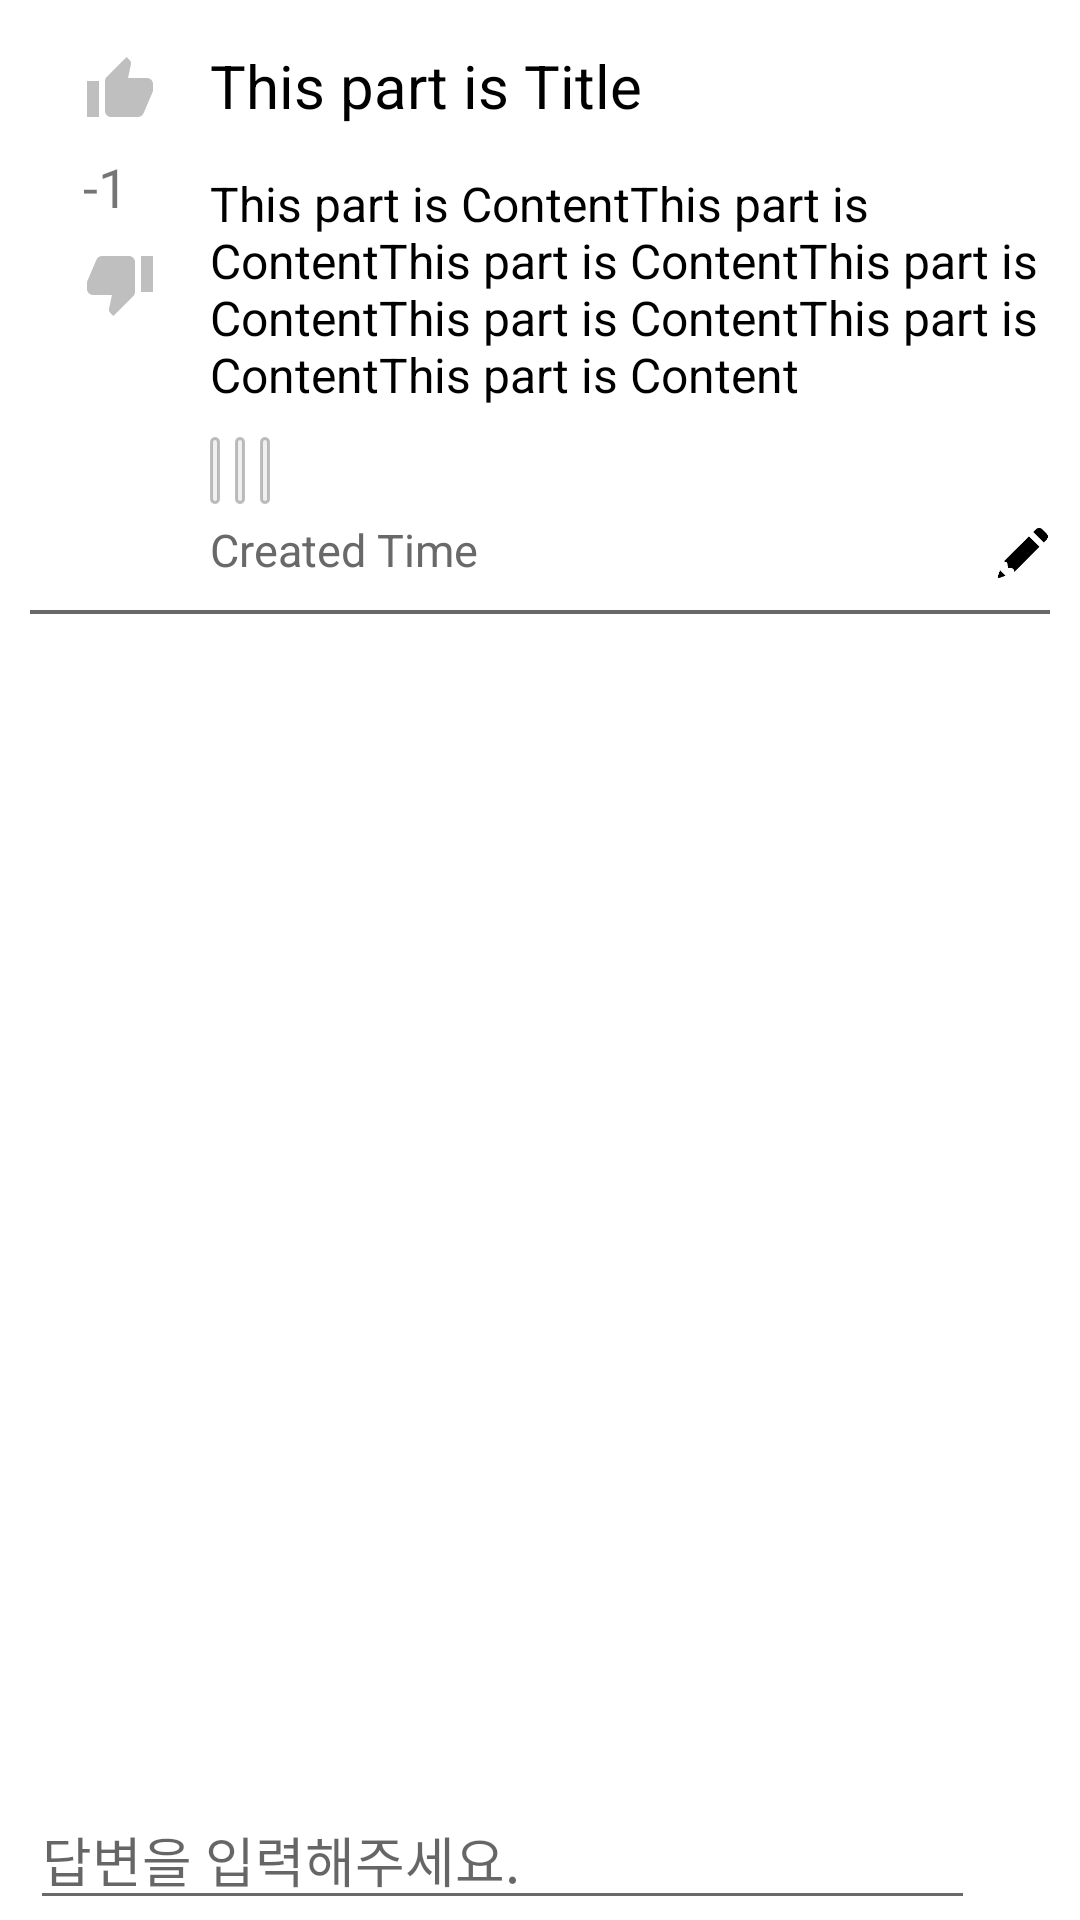

Where to tap for icons on this 1080 × 1920 app screen, as (x=x, y=y):
pencil: (x=1023, y=553)
Thumbs Down Button: (x=120, y=286)
Thumbs Up Button: (x=120, y=87)
